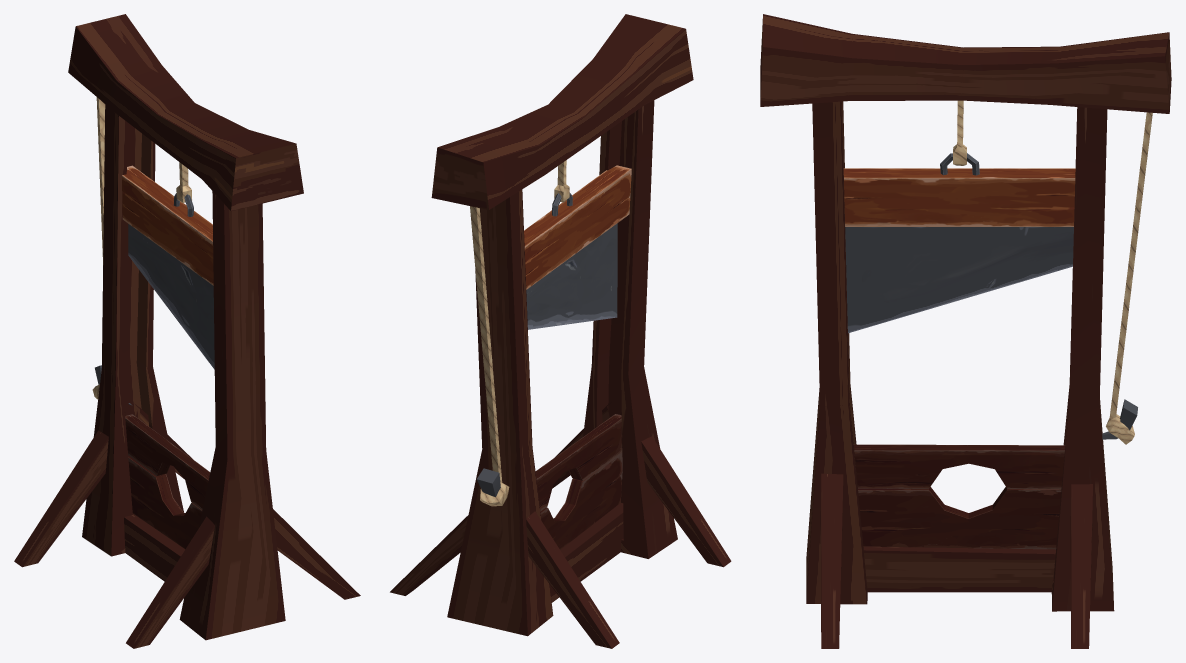
Rendered from SM_PROP_guillotine.fbx.
3 views of the same model, side by side, from view 1: azimuth 30°, elevation 25°; view 2: azimuth 150°, elevation 25°; view 3: azimuth 270°, elevation 25° (orthographic). The views are drawn at different scales.
Visible parts, largest first — view 1: SM_PROP_guillotine, SM_PROP_guillotine_blade; view 2: SM_PROP_guillotine, SM_PROP_guillotine_blade; view 3: SM_PROP_guillotine, SM_PROP_guillotine_blade.
Boxes of the visible parts, x1,y1,x2,y2 form: SM_PROP_guillotine: [14, 14, 360, 648]; SM_PROP_guillotine_blade: [122, 162, 214, 369]; SM_PROP_guillotine: [390, 14, 731, 648]; SM_PROP_guillotine_blade: [524, 160, 631, 329]; SM_PROP_guillotine: [760, 14, 1171, 648]; SM_PROP_guillotine_blade: [843, 100, 1075, 333].
Bounding box in the file's own units: 202 × 424 × 286.
